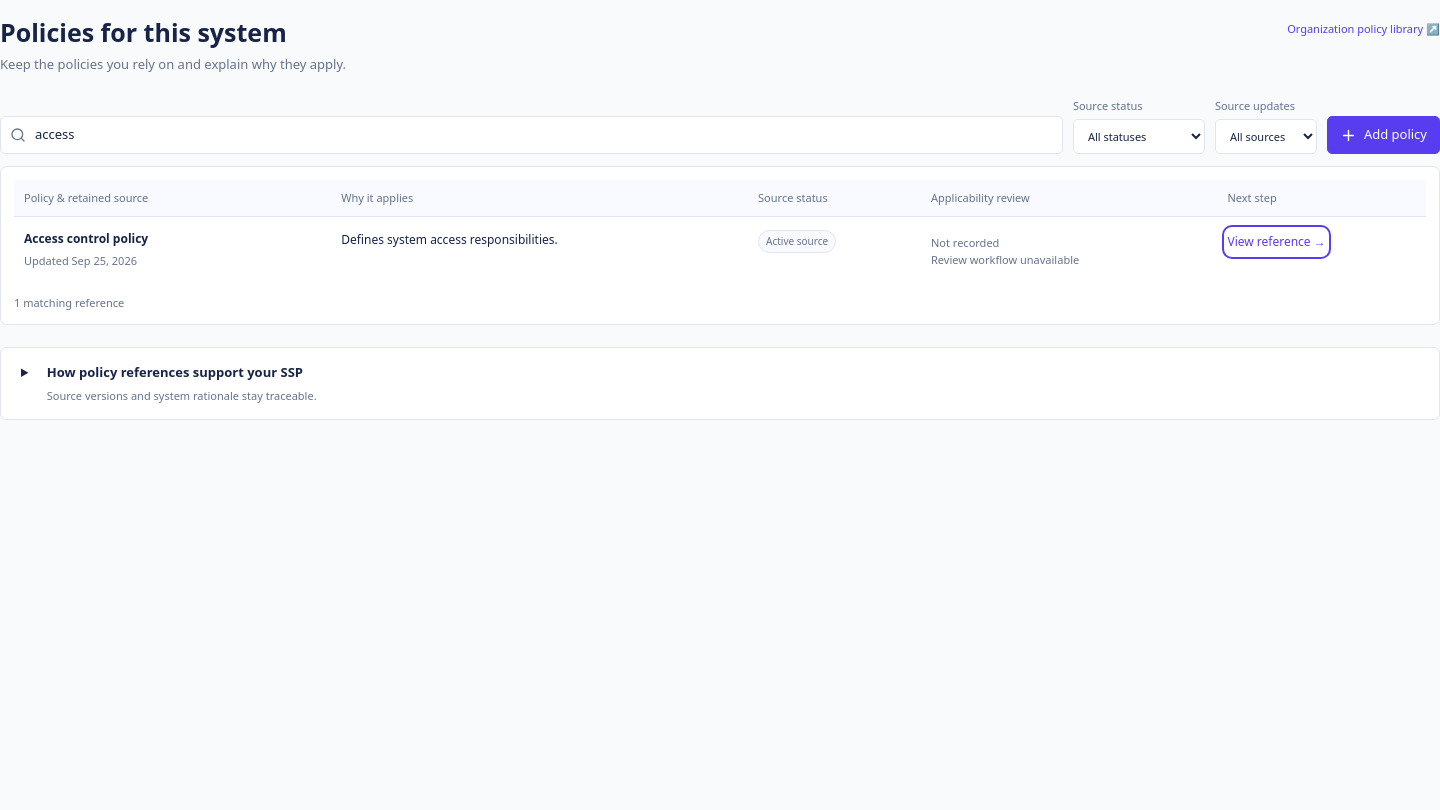
Test case: System policy workspace › retains search and returns focus when a detail closes
Click the button with aria-label "View reference Access control policy" at (1277, 242), box [1228,230,1326,254]
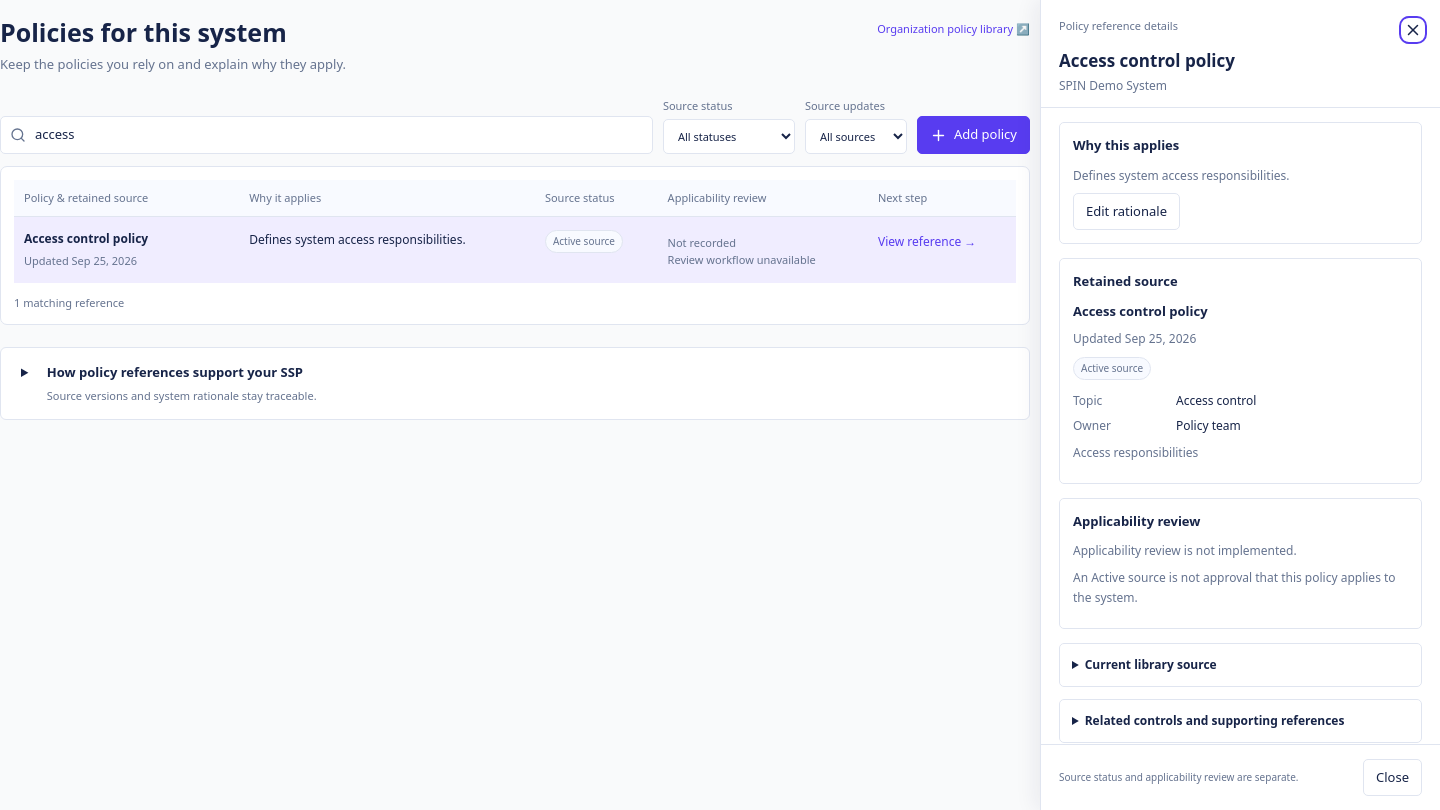
Expected: the element "Retained source" is shown, [1059,258,1422,484]
Press Escape
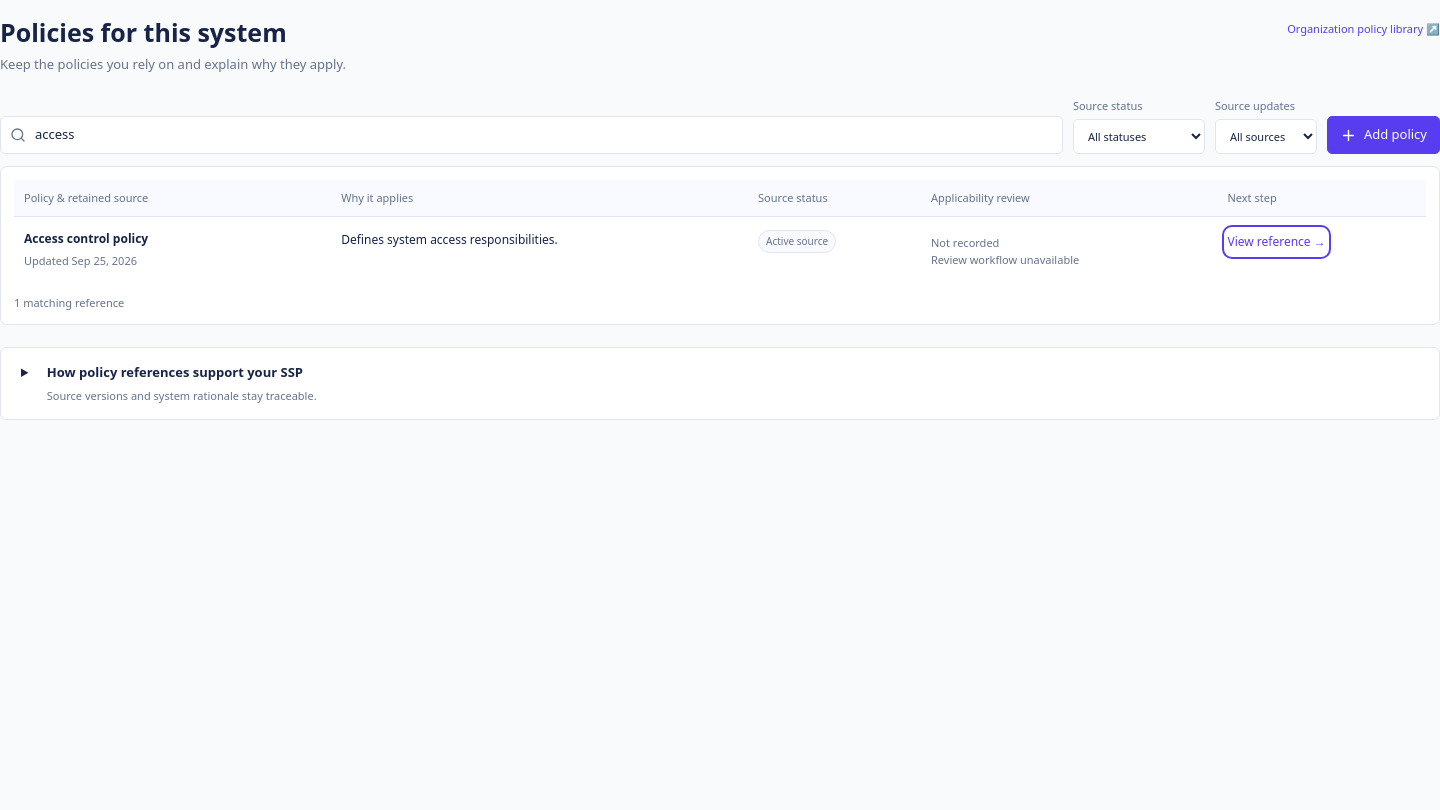
Expected: the field named "Search policy references" holds "access", [0,116,1063,154]
Expected: the dialog is gone
